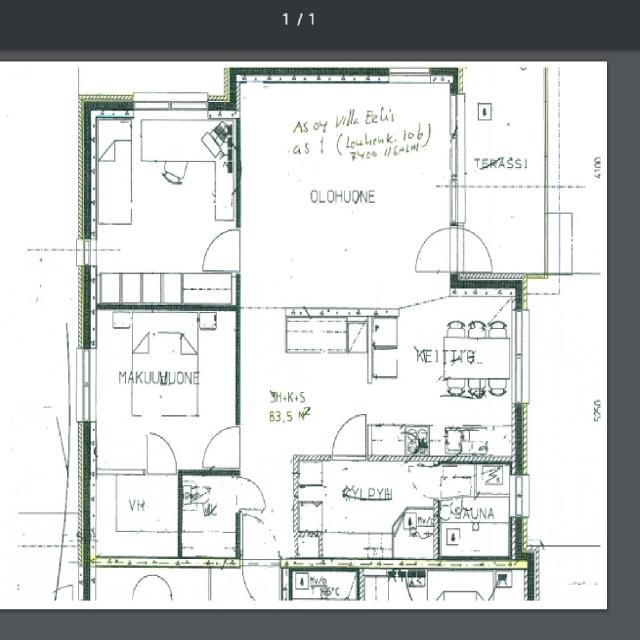door: (180, 466, 244, 563), (238, 510, 283, 602), (410, 219, 459, 279), (196, 220, 245, 276), (327, 407, 369, 462), (199, 421, 244, 472), (451, 222, 495, 274), (139, 425, 181, 478), (233, 473, 270, 517), (467, 479, 478, 496)
window: (71, 325, 100, 433), (130, 89, 218, 118), (510, 305, 532, 408), (446, 90, 465, 176), (511, 467, 532, 524), (446, 172, 465, 230), (385, 65, 436, 84), (76, 235, 98, 270), (506, 469, 520, 520)
zone: (238, 75, 460, 314), (87, 104, 240, 310), (87, 305, 242, 472), (369, 292, 516, 461), (462, 59, 546, 282), (292, 456, 427, 564), (89, 470, 181, 564), (179, 471, 238, 560), (437, 497, 516, 559), (393, 504, 439, 560), (367, 422, 406, 460), (435, 463, 474, 498)
